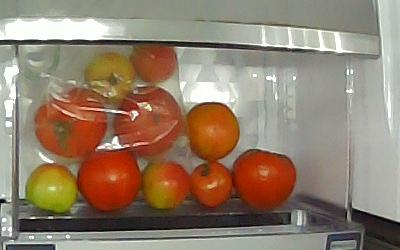tomato: (77, 149, 142, 213), (233, 149, 297, 211), (185, 102, 241, 162), (24, 162, 76, 214), (142, 160, 192, 210), (190, 162, 233, 207)
tomato_vinyl: (112, 85, 184, 160), (35, 88, 109, 158), (83, 51, 135, 100), (130, 45, 178, 83)
